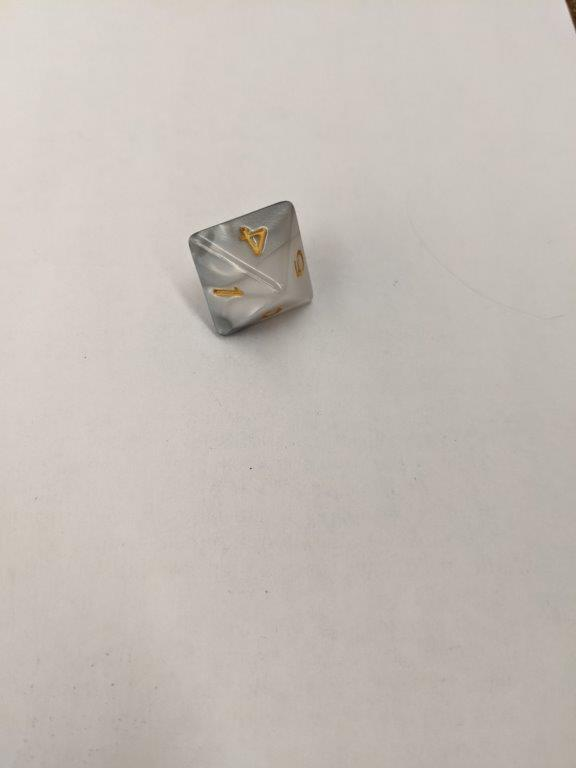d8-4: (187, 198, 314, 339)
